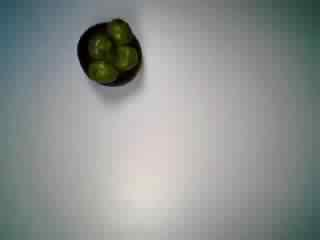mangosteen: (72, 15, 142, 90)
